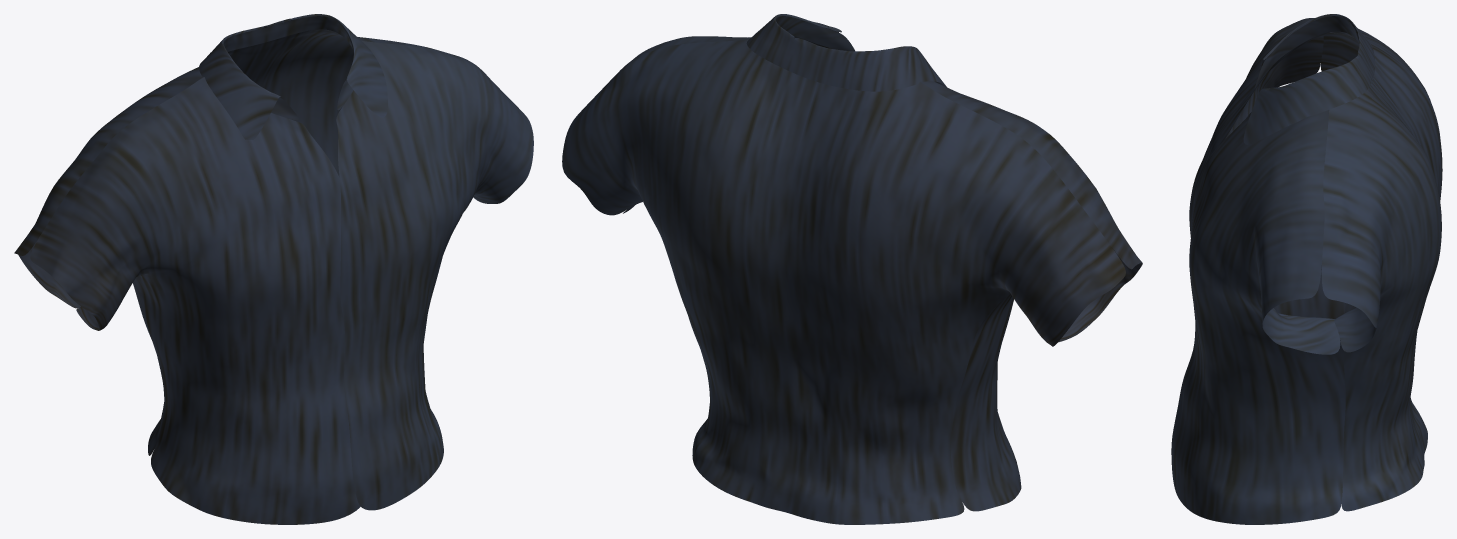
Rendered from SS_XLM.dae.
The picture shows the model from 3 angles, left to right: view 1: azimuth 30°, elevation 25°; view 2: azimuth 150°, elevation 25°; view 3: azimuth 270°, elevation 25°; orthographic projection. The views are drawn at different scales.
Parts seen in each view (by area): view 1: shortshirt; view 2: shortshirt; view 3: shortshirt.
Boxes of the visible parts, left/top/right/bottom form: shortshirt: left=14, top=14, right=533, bottom=524; shortshirt: left=562, top=14, right=1142, bottom=524; shortshirt: left=1171, top=14, right=1442, bottom=524.
Bounding box in the file's own units: 6.33 × 5.24 × 2.91.
